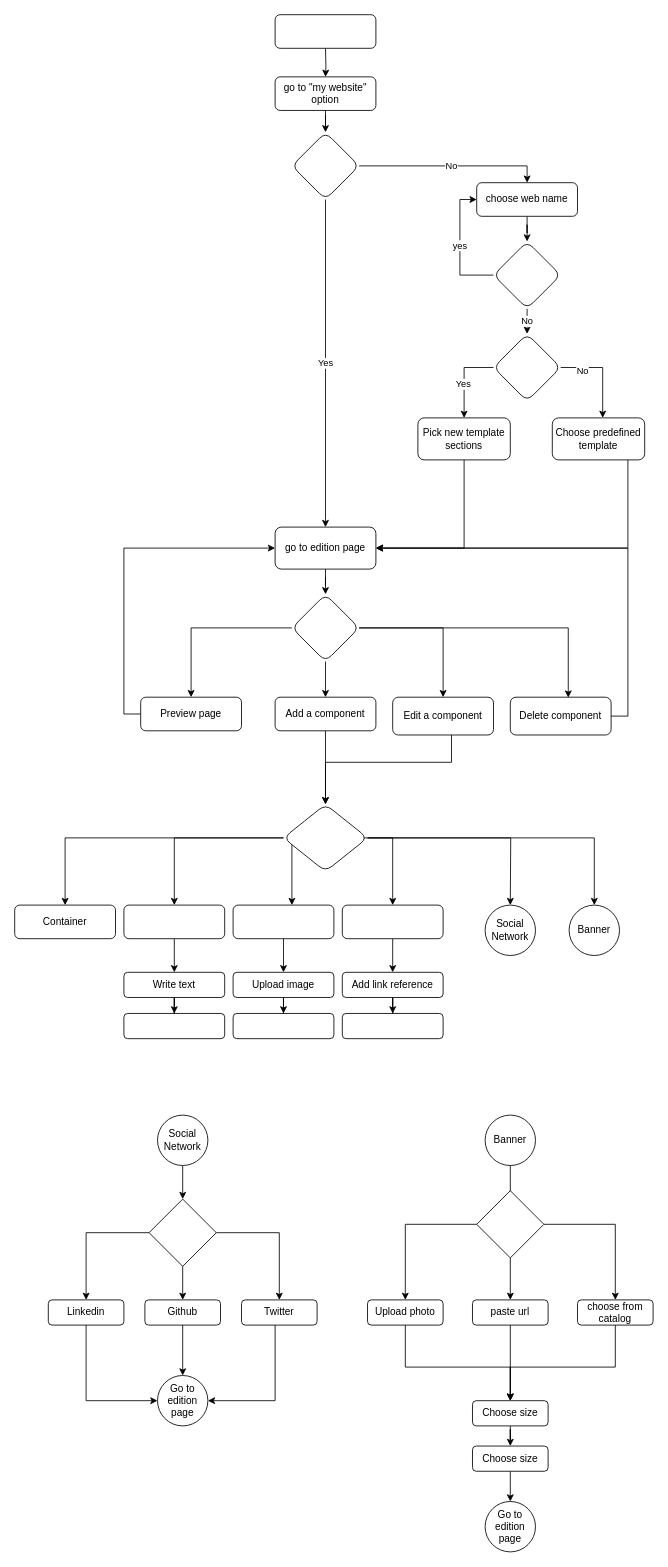
This 668x1567 diagram has some shape labels left out. The shapes that lost their labels are listed below. From the top down, each one's centre as x and y in pixels, then its label:
At [325,31]: "Log in platform".
At [325,165]: "has a website?".
At [527,275]: "name exists?".
At [527,367]: "create template?".
At [325,627]: "Decision to make".
At [325,837]: "Which component?".
At [174,921]: "Text".
At [283,921]: "Avatar".
At [392,921]: "Button".
At [174,1026]: "Modify size, color, weight".
At [283,1026]: "Modify radius, style".
At [392,1026]: "Modify color, style, size".
At [182,1232]: "Choose SN".
At [510,1224]: "choose option".
